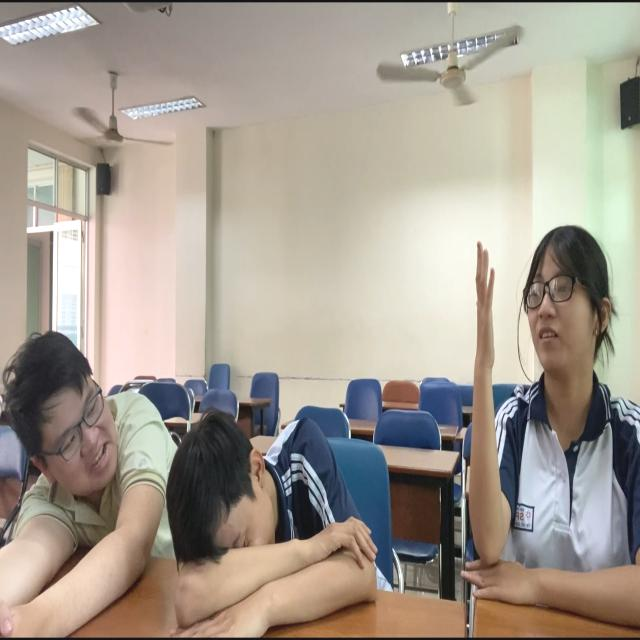raise_hand: (455, 183, 640, 640)
sleep: (167, 386, 393, 640)
